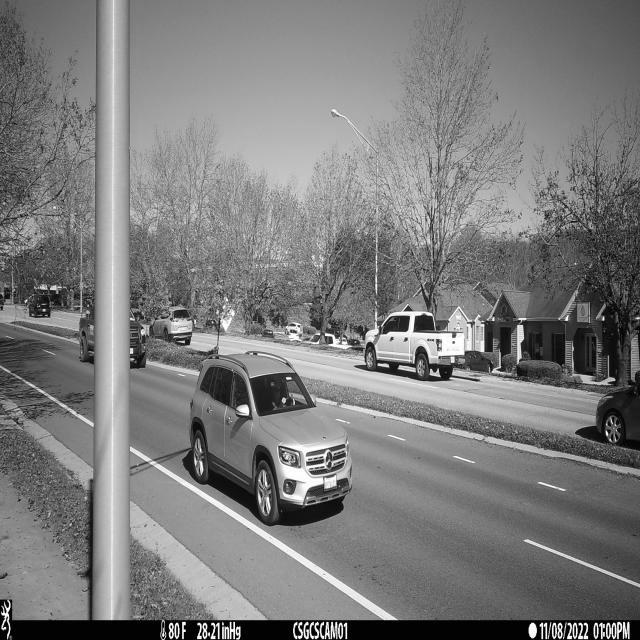SUV: (190, 352, 354, 525)
